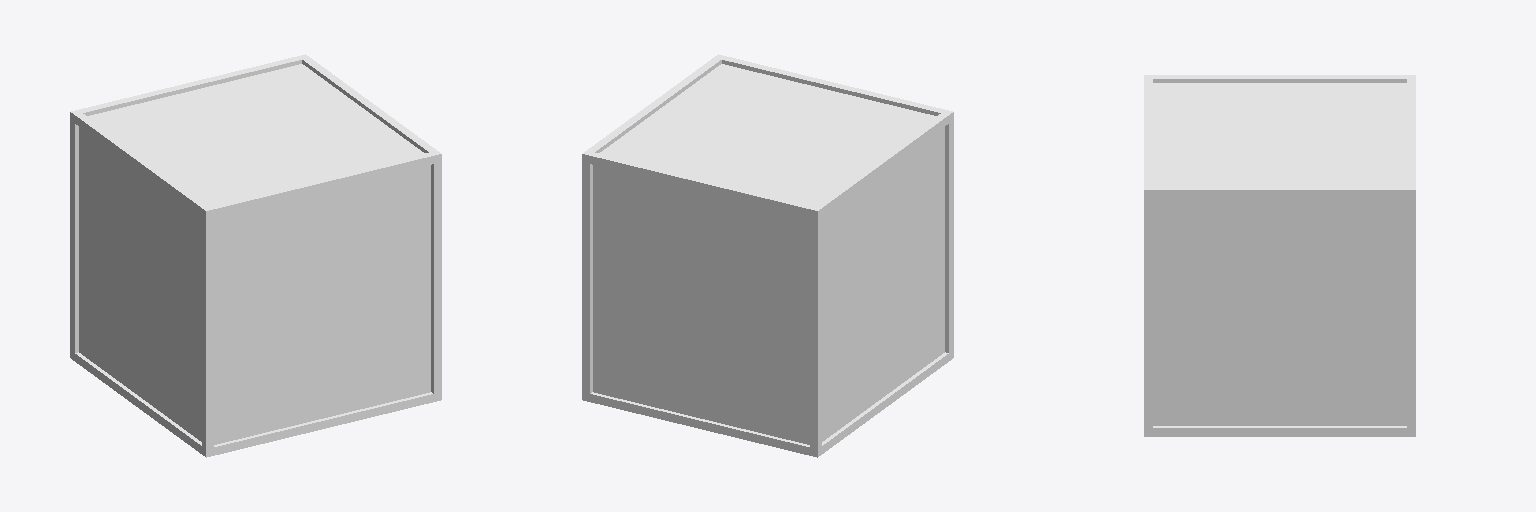
File: bomb_pickup.obj
3 renders of one model, left to right at view 1: azimuth 30°, elevation 25°; view 2: azimuth 150°, elevation 25°; view 3: azimuth 270°, elevation 25°, orthographic.
Parts seen in each view (by area): view 1: bomb_pickup; view 2: bomb_pickup; view 3: bomb_pickup.
Boxes of the visible parts, x1,y1,x2,y2 form: bomb_pickup: [70, 54, 441, 457]; bomb_pickup: [582, 54, 953, 457]; bomb_pickup: [1144, 75, 1415, 436].
Size of the model in its own units: 59 by 59 by 59.